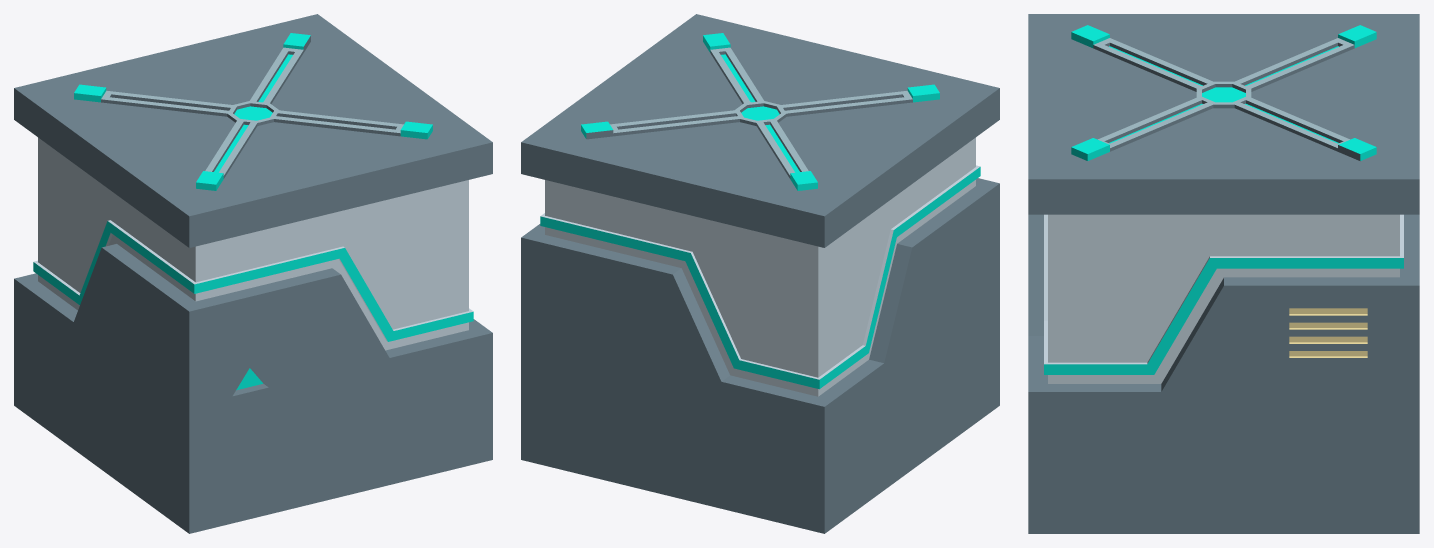
The picture shows the model from 3 angles, left to right: view 1: azimuth 30°, elevation 25°; view 2: azimuth 150°, elevation 25°; view 3: azimuth 270°, elevation 25°; orthographic projection. The views are drawn at different scales.
Parts seen in each view (by area): view 1: box-a-01; view 2: box-a-01; view 3: box-a-01.
Boxes of the visible parts, x1=… form: box-a-01: x1=14, y1=14, x2=492, y2=533; box-a-01: x1=521, y1=14, x2=999, y2=533; box-a-01: x1=1028, y1=14, x2=1419, y2=533.
Size of the model in its own units: 100 by 102 by 100.
